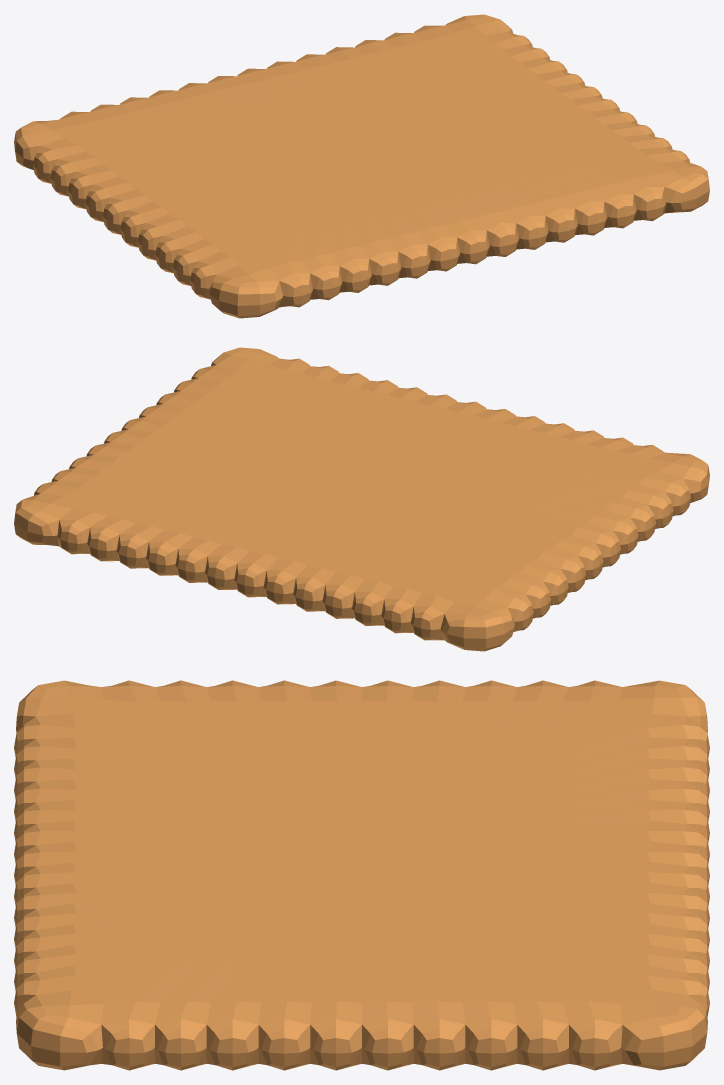
File: petibör.fbx
3 views of the same model, one above another, from view 1: azimuth 30°, elevation 25°; view 2: azimuth 150°, elevation 25°; view 3: azimuth 270°, elevation 25° (orthographic). The views are drawn at different scales.
Visible parts, largest first — view 1: Cube; view 2: Cube; view 3: Cube.
Boxes of the visible parts, x1,y1,x2,y2 form: Cube: (14,14,709,318); Cube: (14,347,709,651); Cube: (14,680,709,1070).
Size of the model in its own units: 257 by 16.14 by 212.
